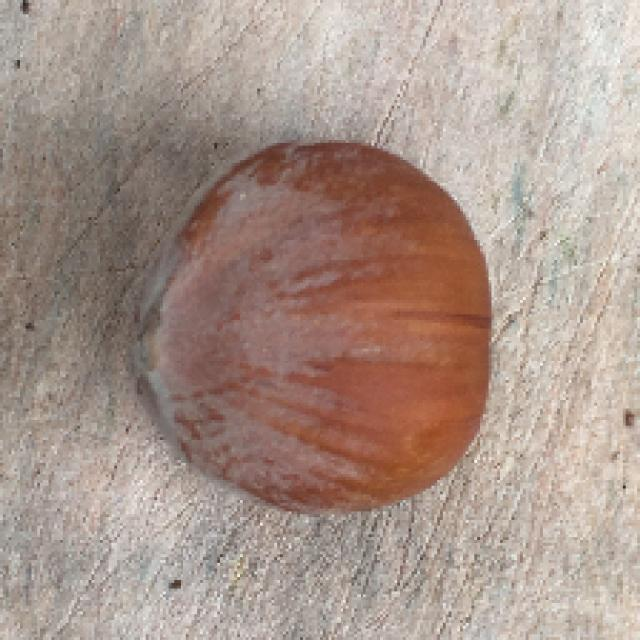QualityHazelnut: (127, 139, 494, 514)
